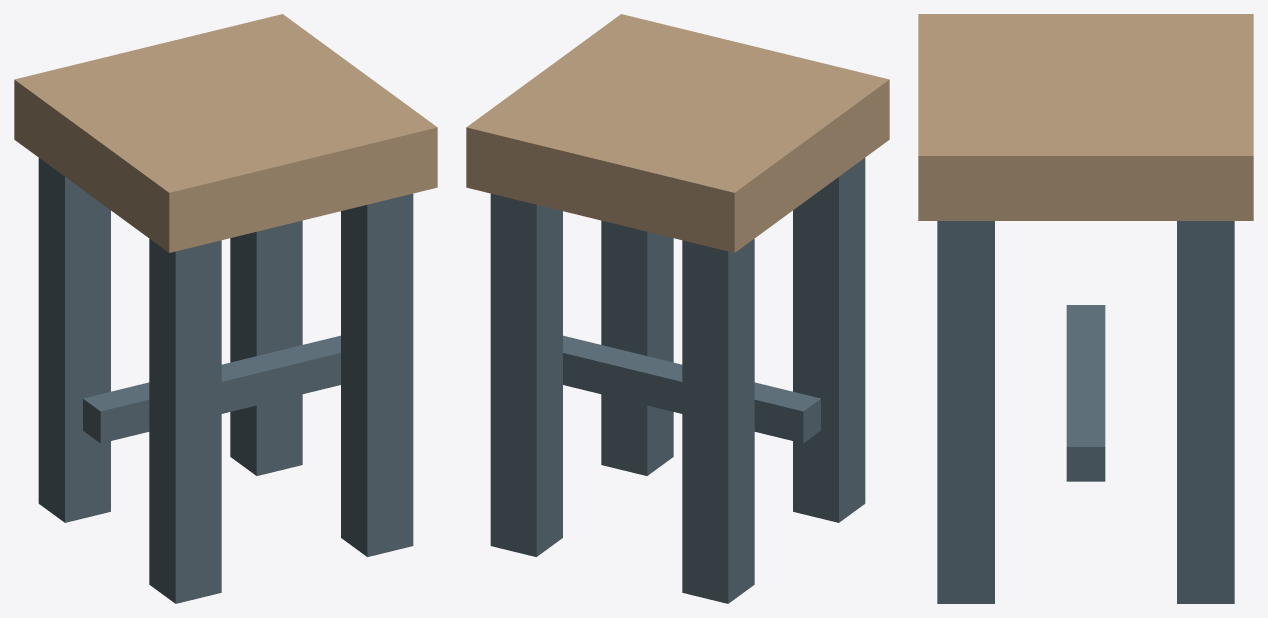
The model's file is voxel-city-districts-bar-stool-15ad652a.glb.
3 renders of one model, left to right at view 1: azimuth 30°, elevation 25°; view 2: azimuth 150°, elevation 25°; view 3: azimuth 270°, elevation 25°, orthographic. The views are drawn at different scales.
Visible parts, largest first — view 1: bar-stool-dark, bar-stool-wood; view 2: bar-stool-dark, bar-stool-wood; view 3: bar-stool-wood, bar-stool-dark.
Boxes of the visible parts, <box> form: bar-stool-dark: <box>38,158,413,603</box>; bar-stool-wood: <box>14,14,437,252</box>; bar-stool-dark: <box>490,158,865,603</box>; bar-stool-wood: <box>466,14,889,252</box>; bar-stool-wood: <box>918,14,1253,220</box>; bar-stool-dark: <box>937,221,1234,603</box>.
Bounding box in the file's own units: 0.7 × 1.05 × 0.7.
